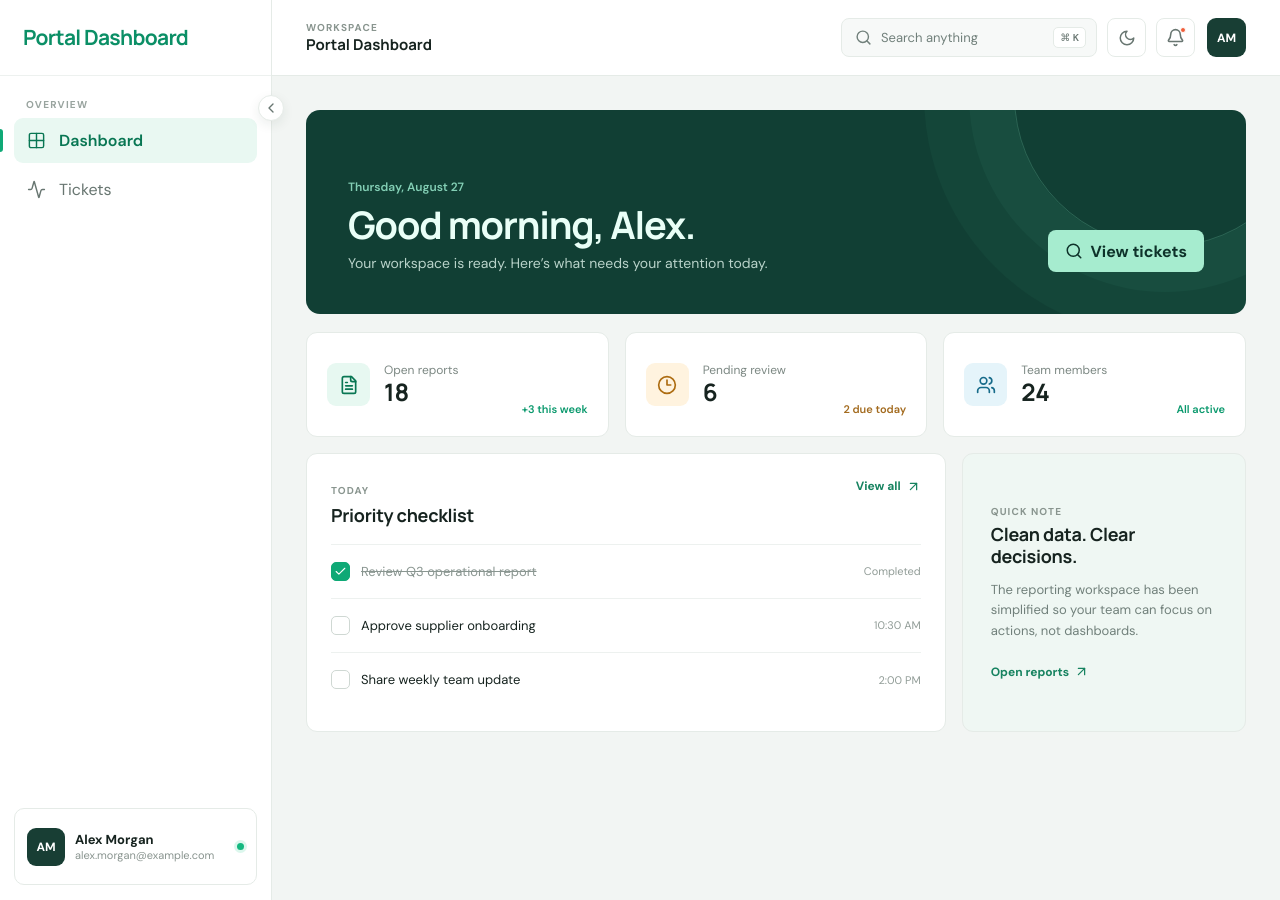
Test: App routing › navigates from the sidebar to the routed Tickets workspace
Click the button "Tickets" at (136, 190), box [14,167,257,212]
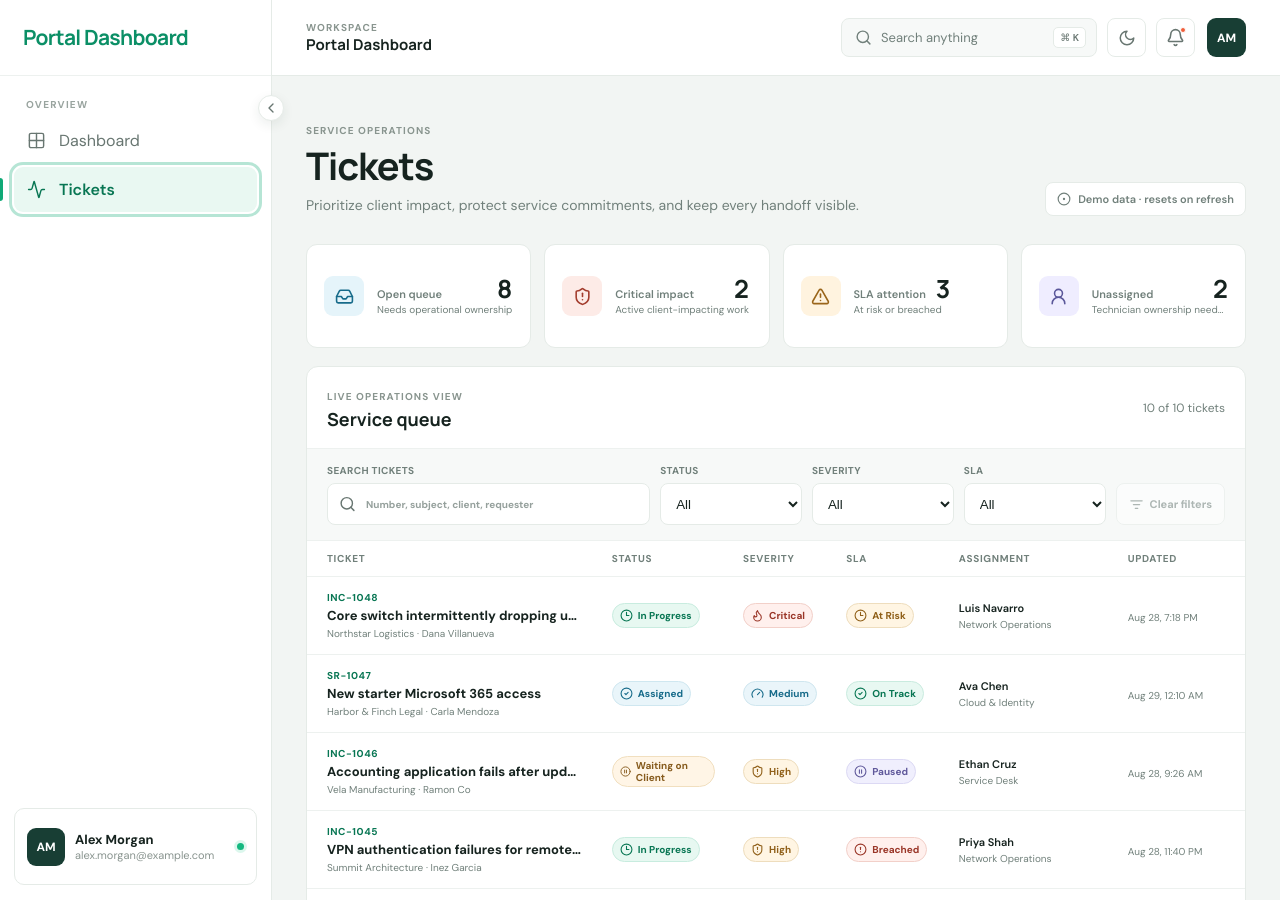
Check: the heading "Tickets" is shown, box [306,139,433,191]
